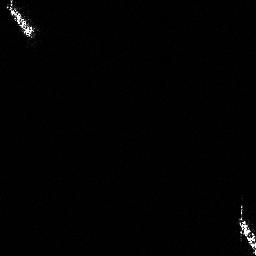ship: (4, 1, 40, 41), (235, 202, 256, 256)
